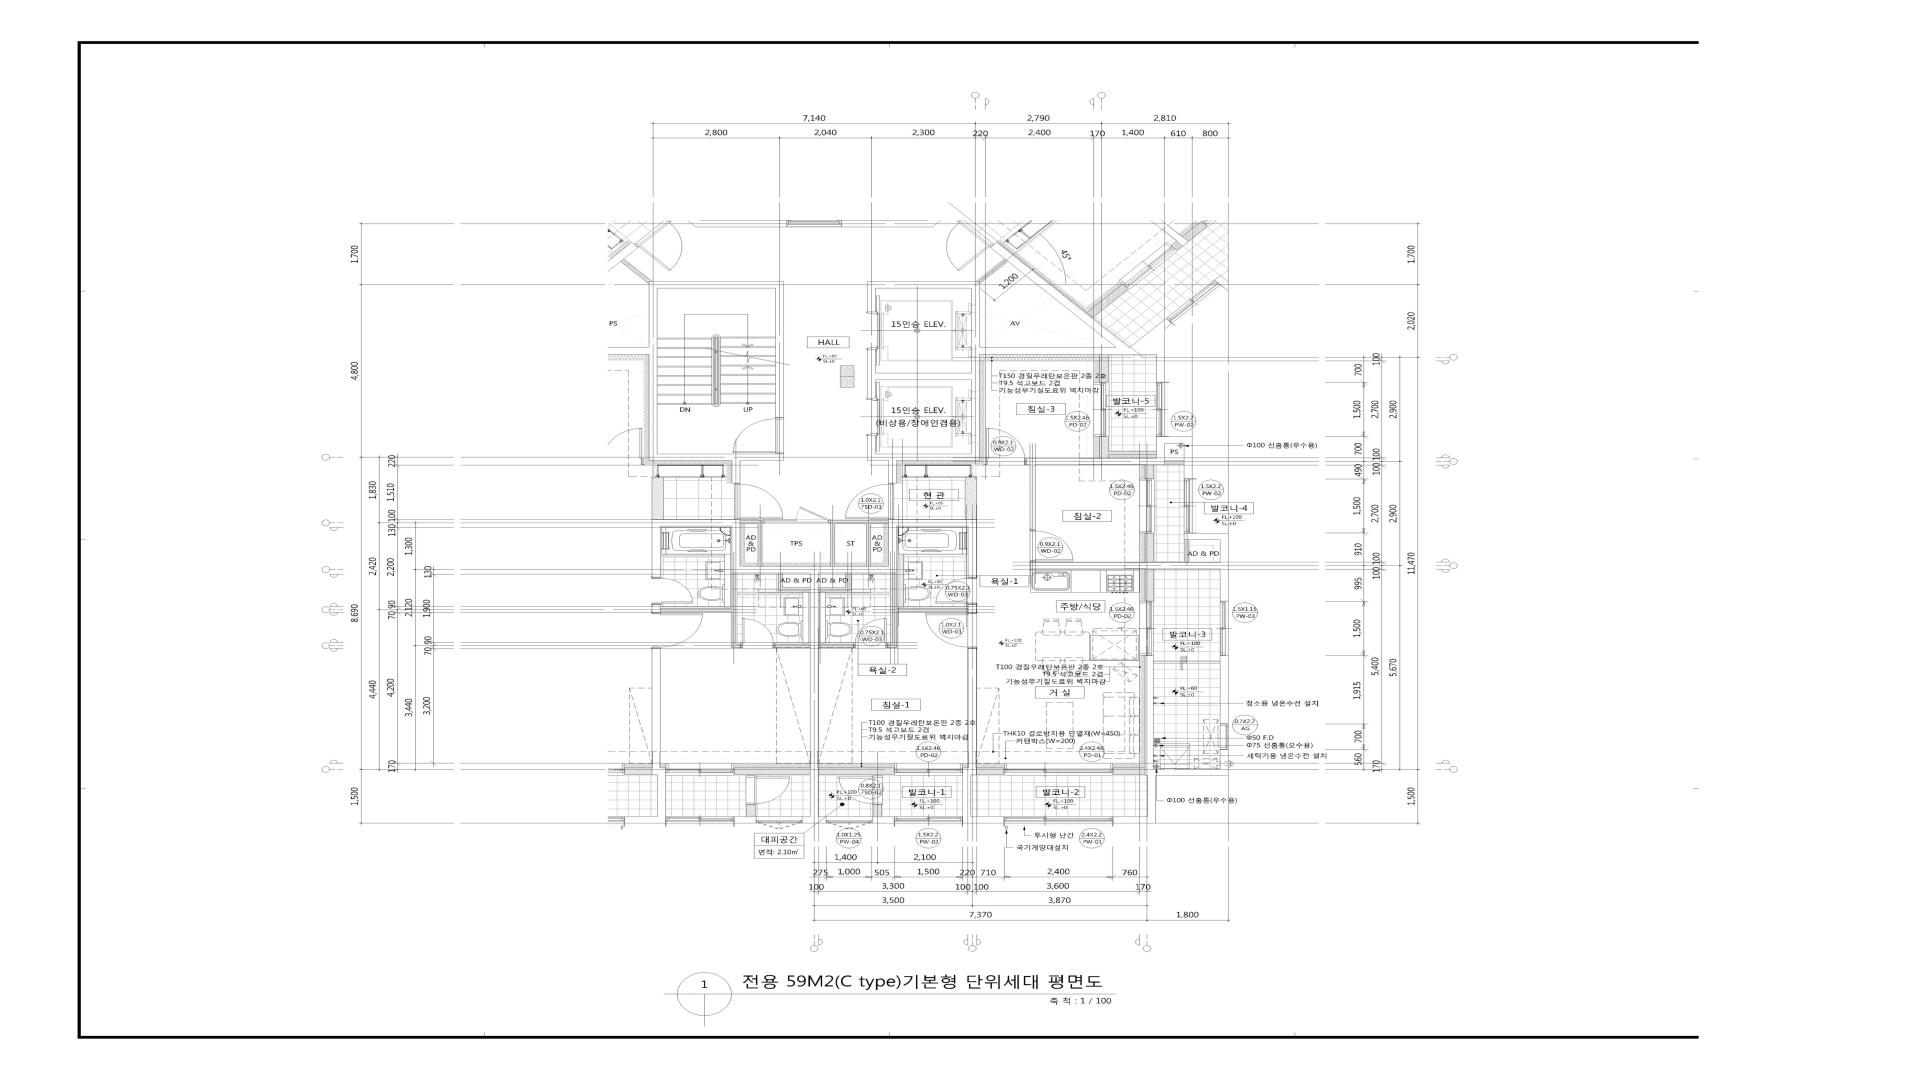door: (928, 219, 994, 272), (634, 219, 700, 272), (926, 612, 977, 649), (845, 483, 894, 520), (733, 418, 783, 454), (985, 429, 1026, 465), (1030, 529, 1073, 562), (839, 775, 882, 804), (762, 506, 831, 524), (935, 578, 977, 604), (853, 618, 887, 649)
wall: (732, 520, 977, 823), (868, 243, 1164, 483), (608, 281, 783, 460), (1113, 655, 1228, 823), (1030, 533, 1229, 601), (963, 649, 1004, 823), (1026, 436, 1192, 479), (887, 574, 968, 647), (831, 520, 889, 566), (1100, 436, 1156, 458), (740, 520, 762, 566), (608, 243, 638, 272), (977, 258, 1007, 284), (621, 258, 651, 284), (841, 220, 940, 227), (688, 220, 787, 227), (1220, 655, 1229, 724), (819, 767, 894, 775), (819, 574, 851, 591), (1030, 465, 1035, 530), (1145, 568, 1154, 601), (1145, 533, 1154, 562), (1100, 355, 1109, 382), (1113, 767, 1145, 775), (977, 767, 1004, 775), (819, 644, 853, 649), (872, 816, 894, 823), (1145, 465, 1155, 479), (872, 804, 882, 816), (1184, 539, 1189, 562), (1164, 460, 1184, 465), (968, 604, 977, 612), (972, 464, 976, 476)
window: (1004, 764, 1113, 775), (1004, 816, 1113, 825), (894, 762, 963, 775), (1139, 479, 1155, 533), (1093, 382, 1109, 436), (1139, 601, 1154, 655), (1156, 382, 1170, 436), (1184, 479, 1196, 533), (894, 816, 963, 825), (1220, 601, 1228, 655), (787, 220, 841, 227), (825, 816, 872, 823), (1220, 724, 1229, 749)
